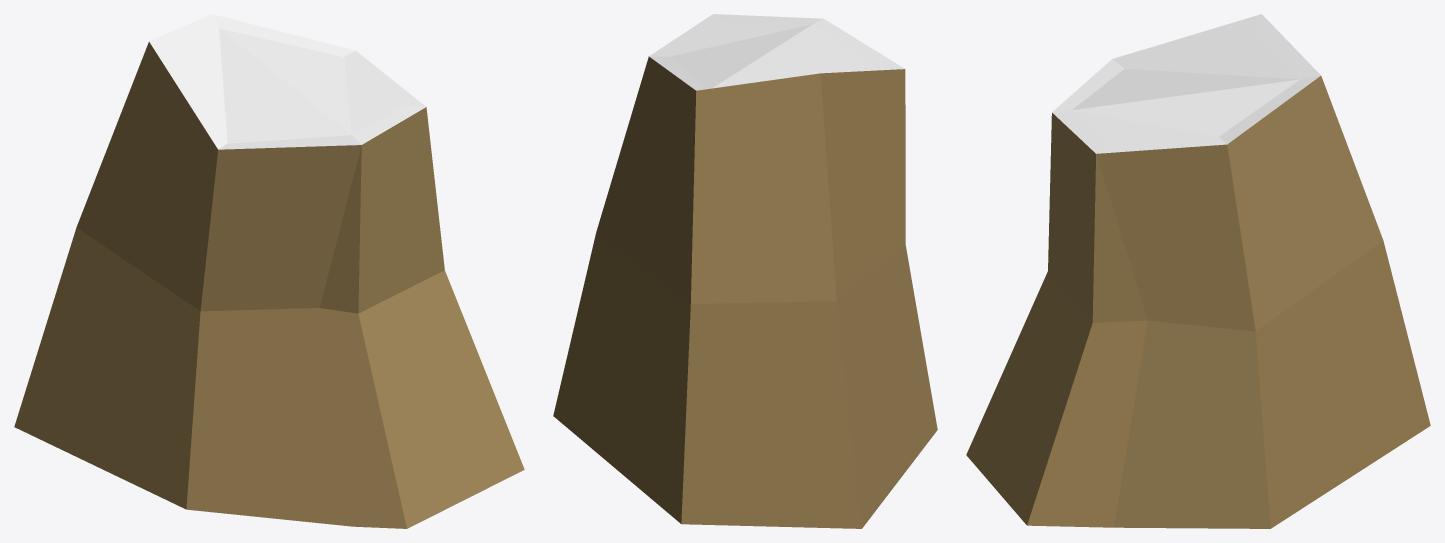
File: Oak_Stump_Snow_04.fbx
The picture shows the model from 3 angles, left to right: view 1: azimuth 30°, elevation 25°; view 2: azimuth 150°, elevation 25°; view 3: azimuth 270°, elevation 25°; orthographic projection. The views are drawn at different scales.
Visible parts, largest first — view 1: Oak_Stump_Snow_04; view 2: Oak_Stump_Snow_04; view 3: Oak_Stump_Snow_04.
Part boxes in pixels (bbox=[...]): Oak_Stump_Snow_04: bbox=[14, 14, 524, 528]; Oak_Stump_Snow_04: bbox=[553, 14, 937, 528]; Oak_Stump_Snow_04: bbox=[966, 14, 1430, 528].
Size of the model in its own units: 96.13 by 106 by 114.
